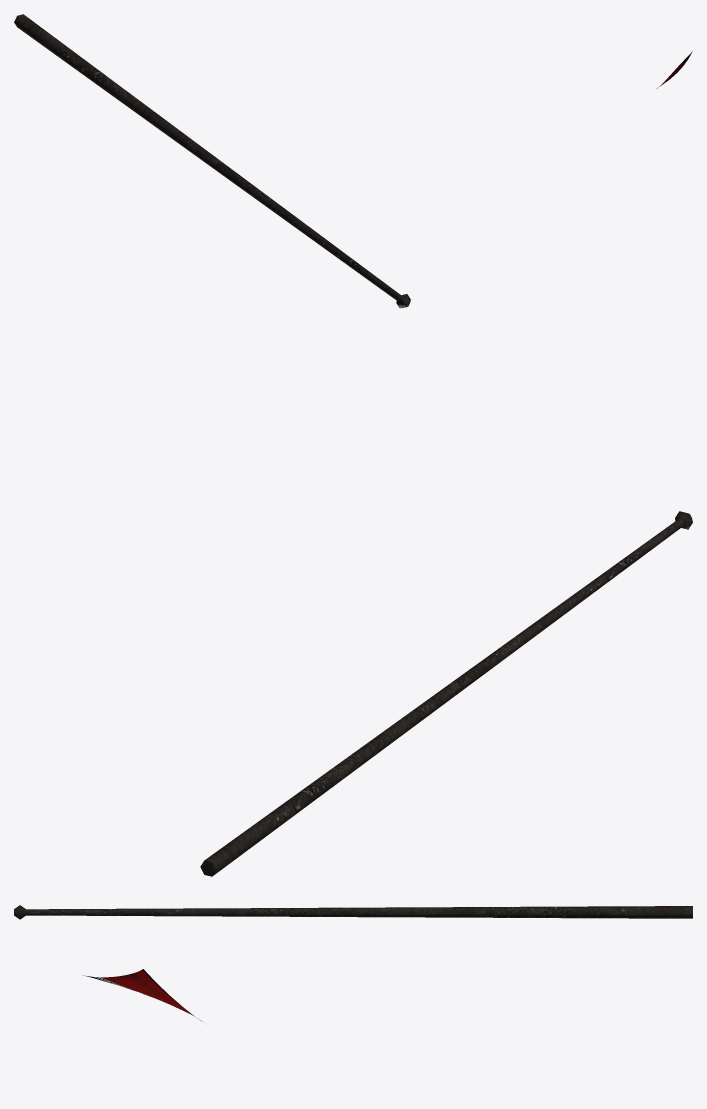
The model's file is prop_flag_german.glb.
3 views of the same model, one above another, from view 1: azimuth 30°, elevation 25°; view 2: azimuth 150°, elevation 25°; view 3: azimuth 270°, elevation 25° (orthographic). The views are drawn at different scales.
Size of the model in its own units: 54.75 by 22.02 by 97.19.
Materials: 1 (1 with a texture image).
